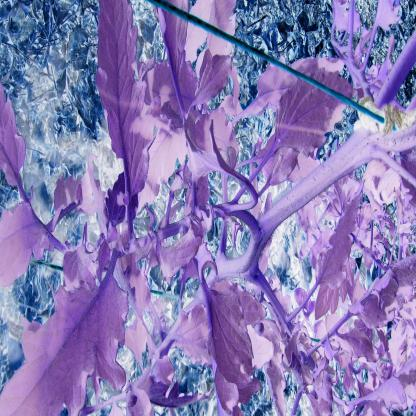tomato leaf: (16, 249, 125, 416), (244, 69, 357, 186), (93, 3, 160, 198), (157, 4, 227, 140), (197, 273, 246, 387), (320, 187, 369, 285), (0, 85, 30, 196), (49, 170, 100, 230)
